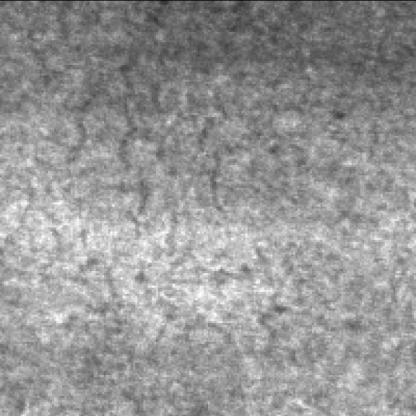crazing: (64, 43, 177, 222)
